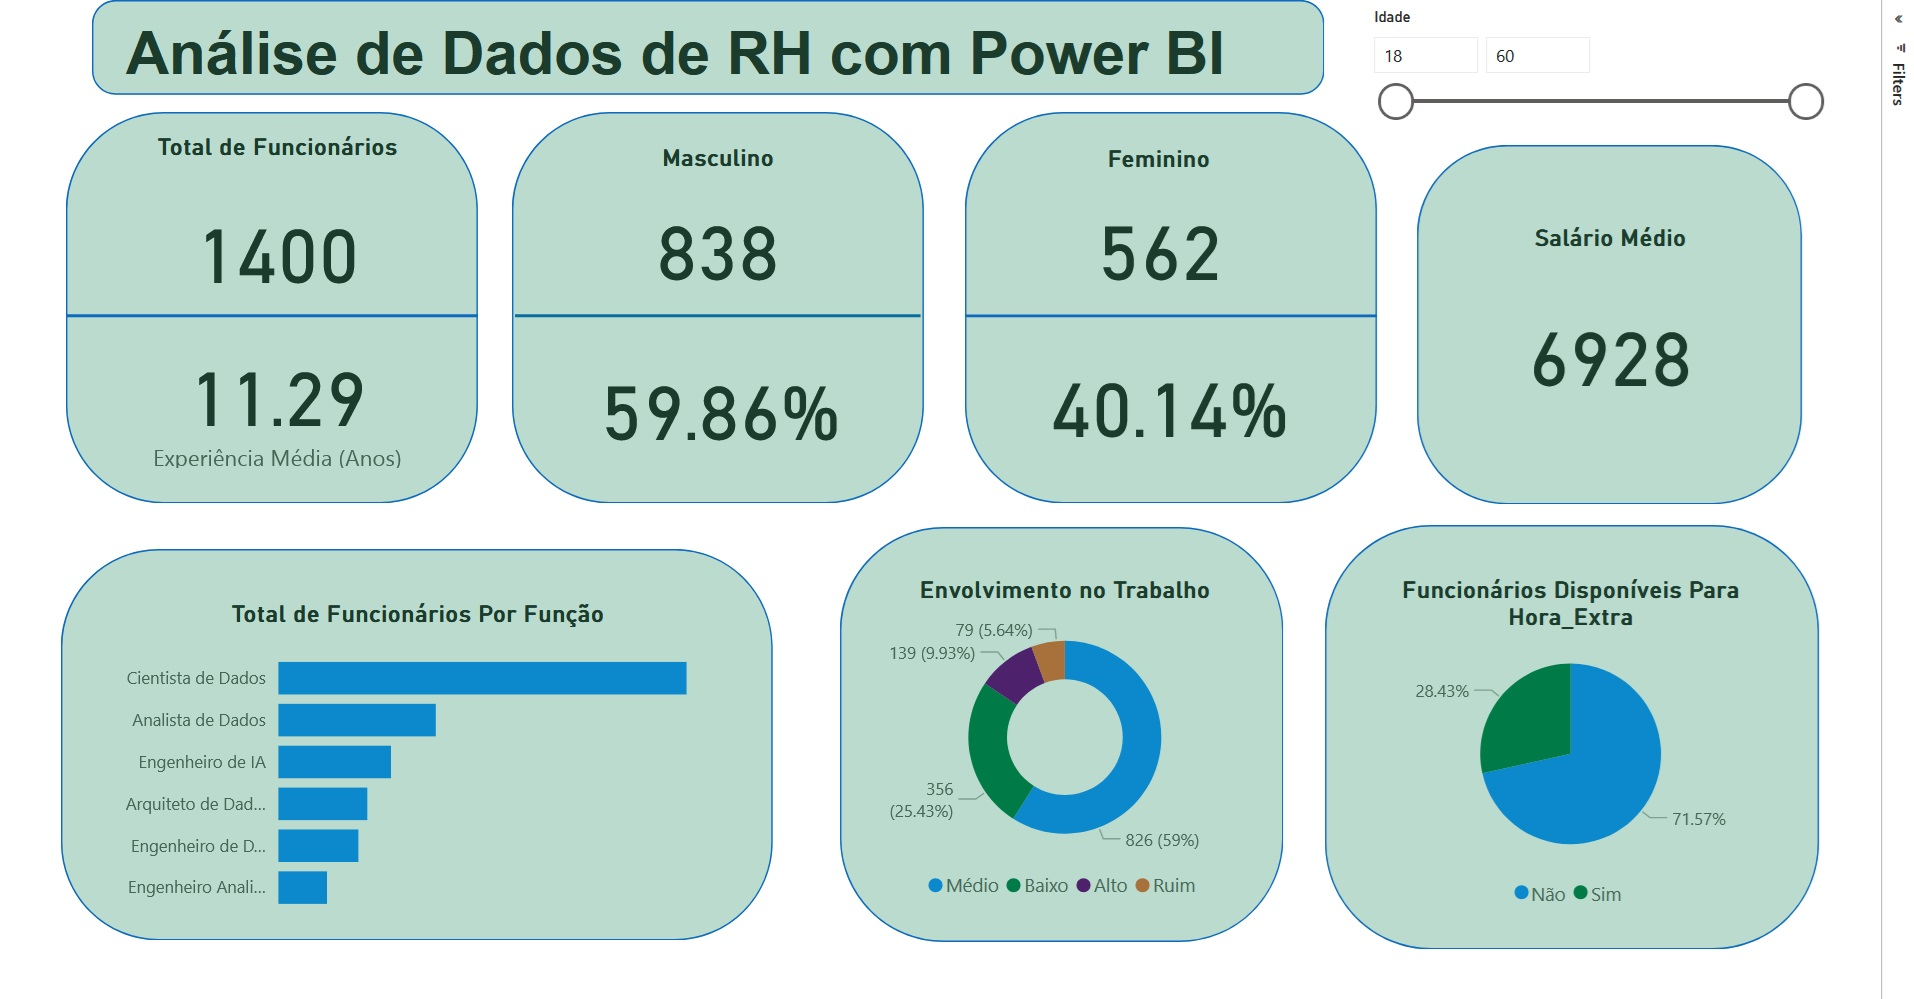

The page's visual inventory and layout, read from the dashboard file:
{"tool":"powerbi","page":{"name":"Page 1","canvas":[1280,720],"ordinal":0},"visuals":[{"type":"textbox","box":[0,7.9,916.3,67.6],"z":0},{"type":"card","title":"Total de Funcionários","fields":{"Values":["Medidas.TotalFunc"]},"box":[24.8,94.7,286.3,143.1],"z":1000},{"type":"card","title":"Feminino","fields":{"Values":["Medidas.TotalFeminino"]},"box":[689.8,103.7,215.3,121.7],"z":2000},{"type":"card","title":"Masculino","fields":{"Values":["Medidas.TotalMasculino"]},"box":[365.2,102.6,235.6,122.9],"z":3000},{"type":"card","fields":{"Values":["Medidas.%Feminino"]},"box":[706.7,240.1,198.4,92.4],"z":4000},{"type":"card","fields":{"Values":["Medidas.%Masculino"]},"box":[369.7,246.8,227.7,82.3],"z":5000},{"type":"card","title":"Salário Médio","fields":{"Values":["Medidas.SalarioMedio"]},"box":[997.5,160.1,244.6,160.1],"z":6000},{"type":"card","fields":{"Values":["Avg(DatasetRH.Anos_Experiencia)"]},"box":[59.7,237.8,216.4,101.4],"z":7000},{"type":"clusteredBarChart","title":"Total de Funcionários Por Função","fields":{"Category":["DatasetRH.Funcao"],"Y":["Medidas.TotalFunc"]},"box":[42.8,428.3,450.8,234.4],"z":8000},{"type":"pieChart","title":"Funcionários Disponíveis Para Hora_Extra","fields":{"Y":["Medidas.TotalFunc"],"Category":["DatasetRH.Disponivel_Hora_Extra"]},"box":[927.6,411.4,328,245.7],"z":9000},{"type":"donutChart","title":"Envolvimento no Trabalho","fields":{"Y":["Medidas.TotalFunc"],"Category":["DatasetRH.Envolvimento_Trabalho"]},"box":[570.3,411.4,321.2,240.1],"z":10000},{"type":"shape","box":[16.9,80,294.2,279.5],"z":11000},{"type":"shape","box":[16.9,149.9,294.2,151],"z":12000},{"type":"shape","box":[338.1,149.9,289.7,151],"z":13000},{"type":"shape","box":[335.9,80,294.2,279.5],"z":14000},{"type":"shape","box":[659.4,80,294.2,279.5],"z":15000},{"type":"shape","box":[980.6,109.3,275,250.2],"z":16000},{"type":"shape","box":[659.4,75.5,294.2,299.8],"z":17000},{"type":"shape","box":[13.5,392.2,508.3,279.5],"z":18000},{"type":"shape","box":[570.3,376.5,316.7,296.4],"z":19000},{"type":"shape","box":[916.3,375.3,352.8,303.2],"z":20000},{"type":"shape","box":[36.1,0,880.3,67.6],"z":21000},{"type":"slicer","fields":{"Values":["DatasetRH.Idade"]},"box":[927.6,0,352.8,86.8],"z":21001}]}

Visuals, with their boxes in screenshot pixels (x1, y1, x2, y2):
textbox: select_region(0, 0, 1107, 50)
"Total de Funcionários" card: select_region(0, 75, 310, 263)
"Feminino" card: select_region(809, 87, 1092, 247)
"Masculino" card: select_region(381, 85, 692, 247)
card - Medidas.%Feminino: select_region(831, 266, 1092, 388)
card - Medidas.%Masculino: select_region(387, 275, 687, 384)
"Salário Médio" card: select_region(1214, 161, 1536, 372)
card - Avg(DatasetRH.Anos_Experiencia): select_region(0, 263, 264, 397)
"Total de Funcionários Por Função" clusteredBarChart: select_region(0, 514, 550, 823)
"Funcionários Disponíveis Para Hora_Extra" pieChart: select_region(1122, 492, 1554, 816)
"Envolvimento no Trabalho" donutChart: select_region(651, 492, 1074, 808)
shape: select_region(0, 56, 310, 424)
shape: select_region(0, 148, 310, 346)
shape: select_region(346, 148, 727, 346)
shape: select_region(343, 56, 730, 424)
shape: select_region(769, 56, 1156, 424)
shape: select_region(1192, 94, 1554, 424)
shape: select_region(769, 50, 1156, 444)
shape: select_region(0, 467, 588, 835)
shape: select_region(651, 446, 1068, 836)
shape: select_region(1107, 444, 1572, 844)
shape: select_region(0, 0, 1107, 39)
slicer - DatasetRH.Idade: select_region(1122, 0, 1587, 64)
